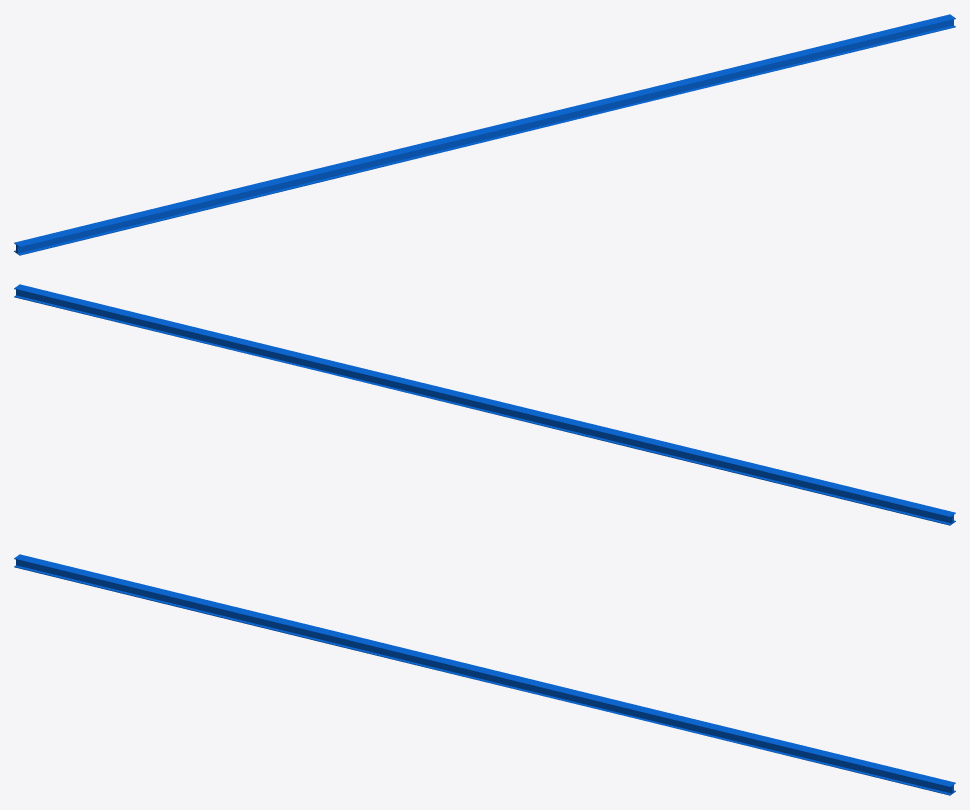
File: S_01_Metal_Pillar_01.fbx
The picture shows the model from 3 angles, top to bottom: view 1: azimuth 30°, elevation 25°; view 2: azimuth 150°, elevation 25°; view 3: azimuth 330°, elevation 25°; orthographic projection.
Visible parts, largest first — view 1: S_01_Metal_Pillar_01; view 2: S_01_Metal_Pillar_01; view 3: S_01_Metal_Pillar_01.
Part boxes in pixels (x1,y1,x2,y2): S_01_Metal_Pillar_01: (14,14,955,255); S_01_Metal_Pillar_01: (14,284,955,525); S_01_Metal_Pillar_01: (14,554,955,795).
Bounding box in the file's own units: 1797 × 16.11 × 19.2.
